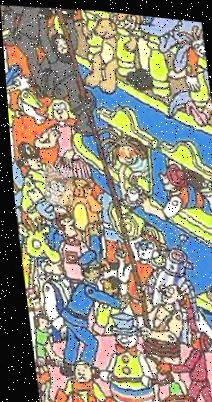waldo: (39, 164, 72, 206)
